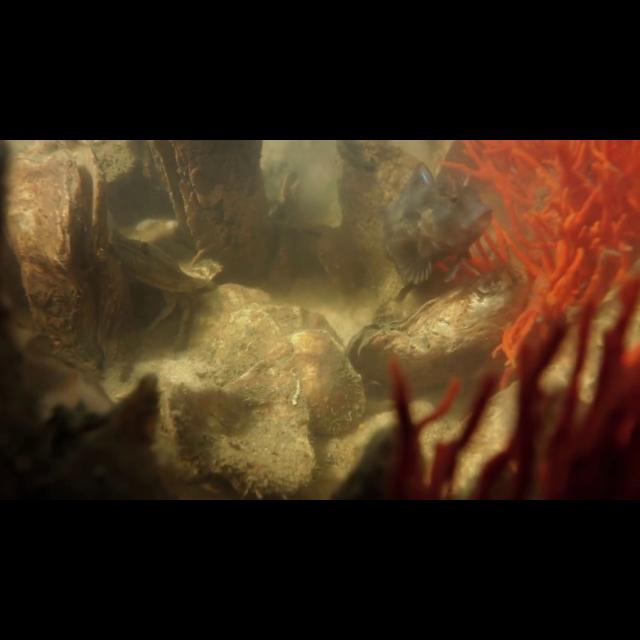Oyster-Closed: (2, 142, 137, 377), (344, 269, 531, 390), (288, 327, 370, 439)
Oyster-Open: (139, 141, 277, 284)
